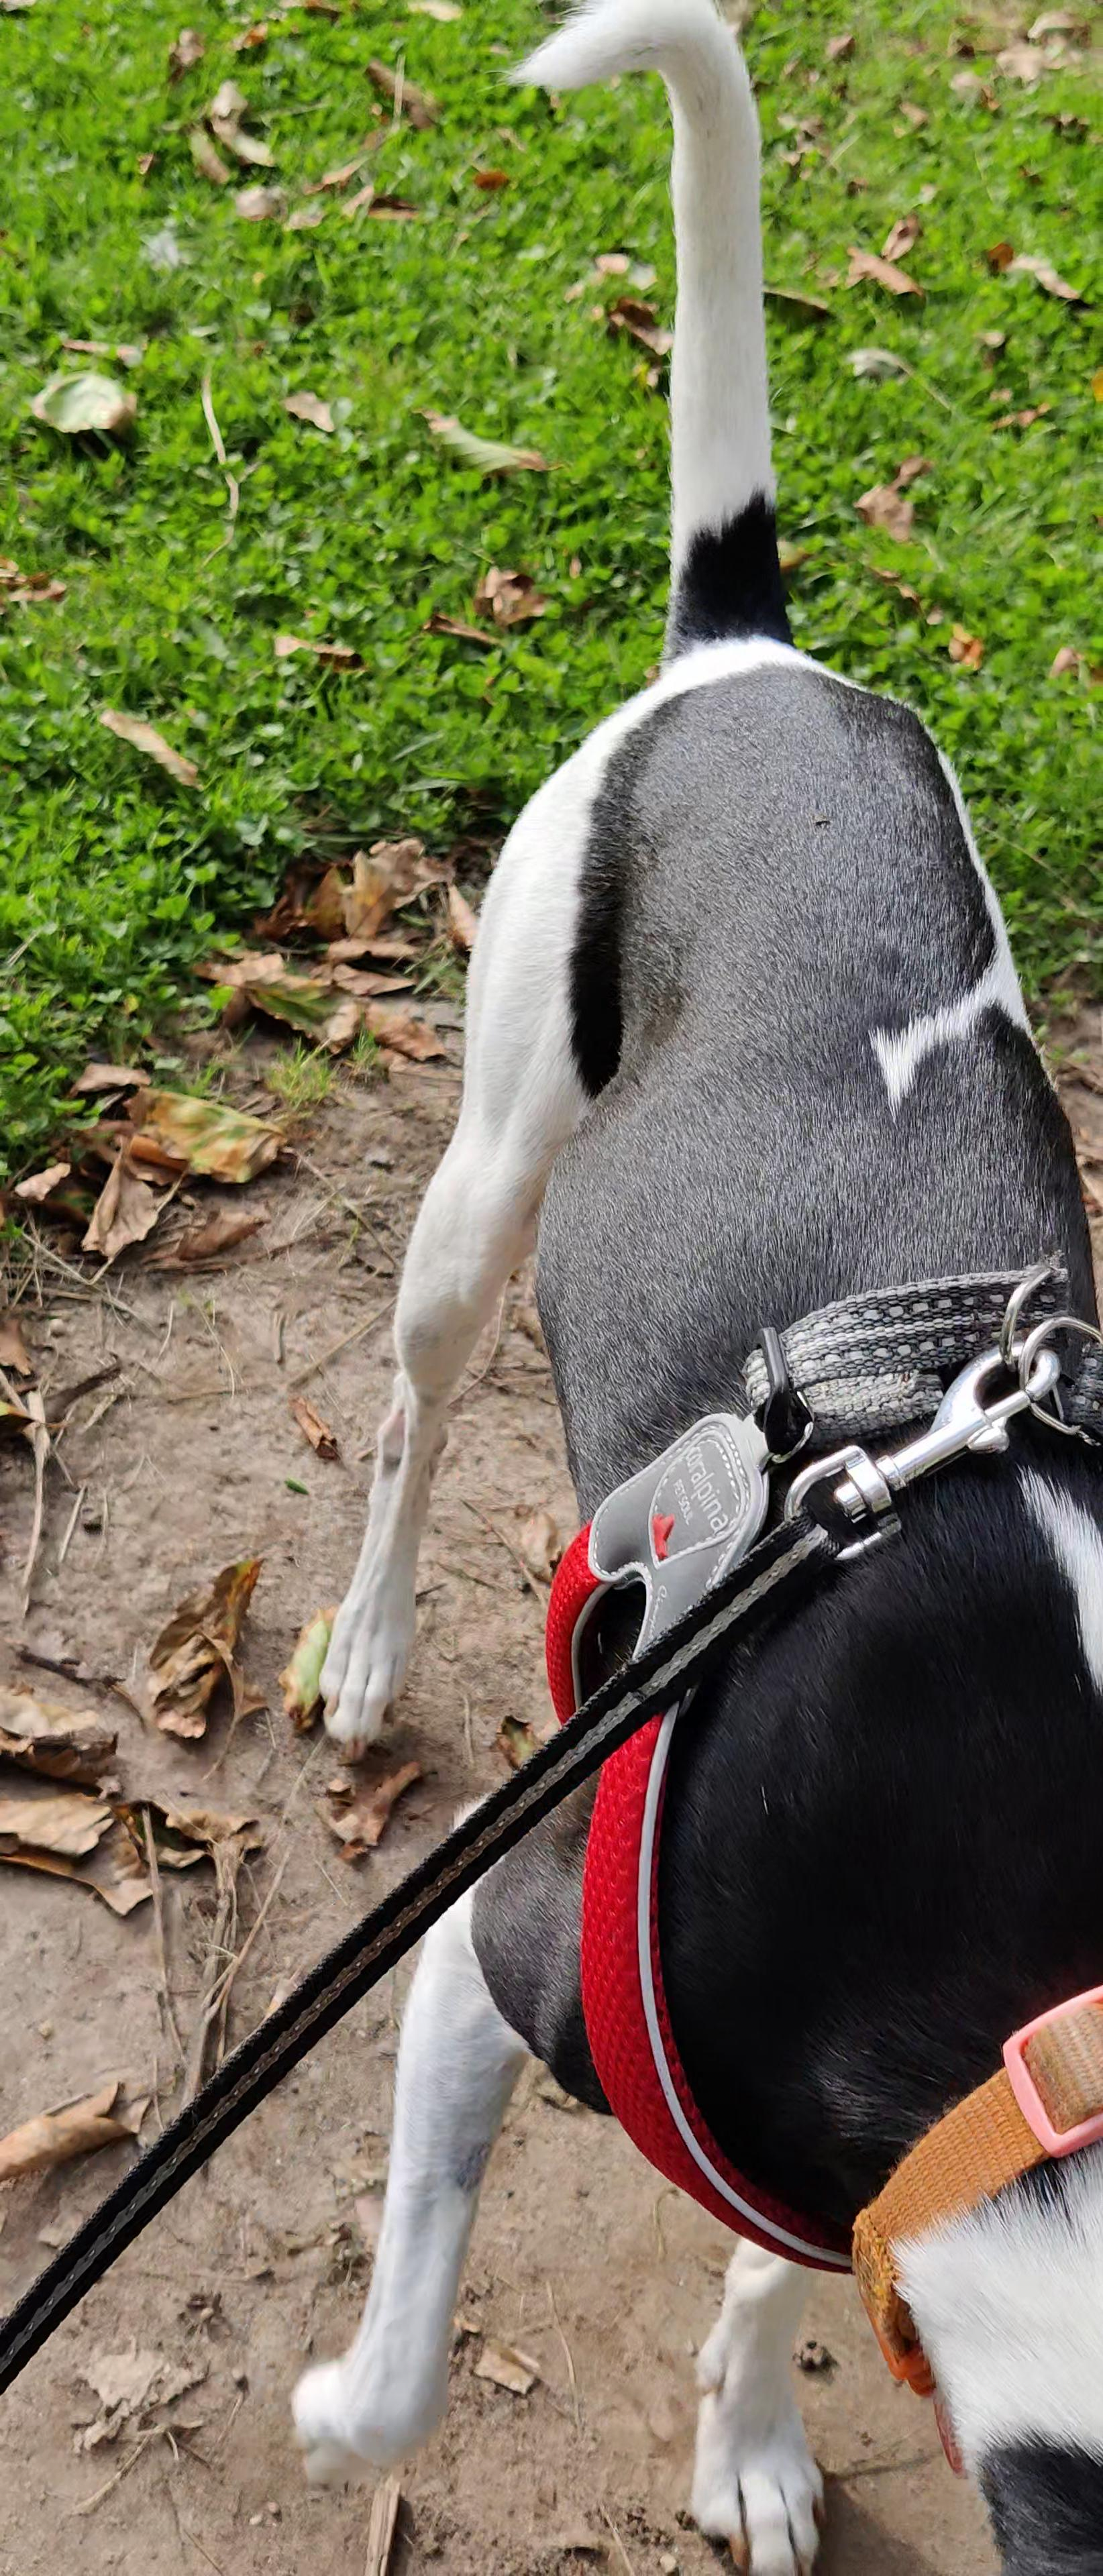Dog: (275, 0, 1103, 2576)
